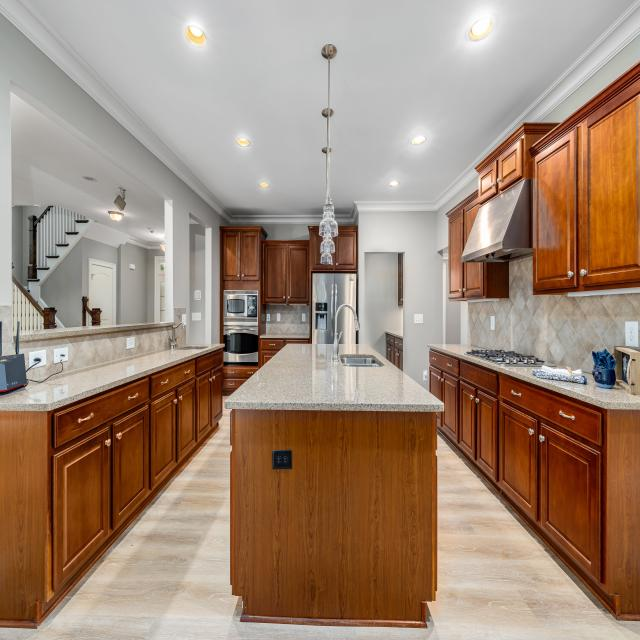Appliance_Fridge: (313, 273, 359, 345)
Appliance_Microwave: (225, 290, 258, 322)
Appliance_Oven: (223, 326, 258, 364)
Appliance_Sink: (332, 304, 380, 368)
Appliance_Stove: (466, 349, 544, 364)
Cabinet_Flat: (52, 351, 260, 446), (430, 351, 605, 445), (259, 338, 311, 351)
Cabinet_Raised_Panel: (448, 63, 640, 301), (49, 367, 228, 592), (428, 368, 601, 573), (221, 222, 359, 306)
Countertop_Granite: (223, 343, 445, 413), (0, 345, 223, 411), (429, 344, 640, 411)
